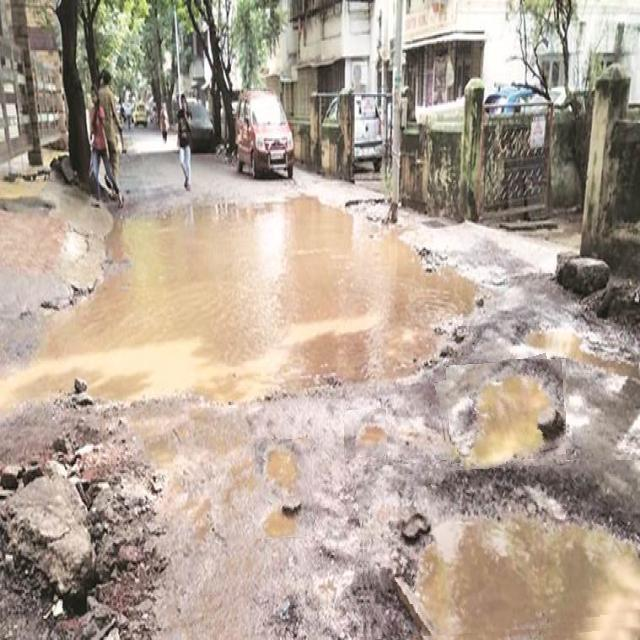Pothole: (359, 460, 640, 640), (440, 359, 566, 471), (256, 439, 314, 539), (344, 409, 387, 459)
